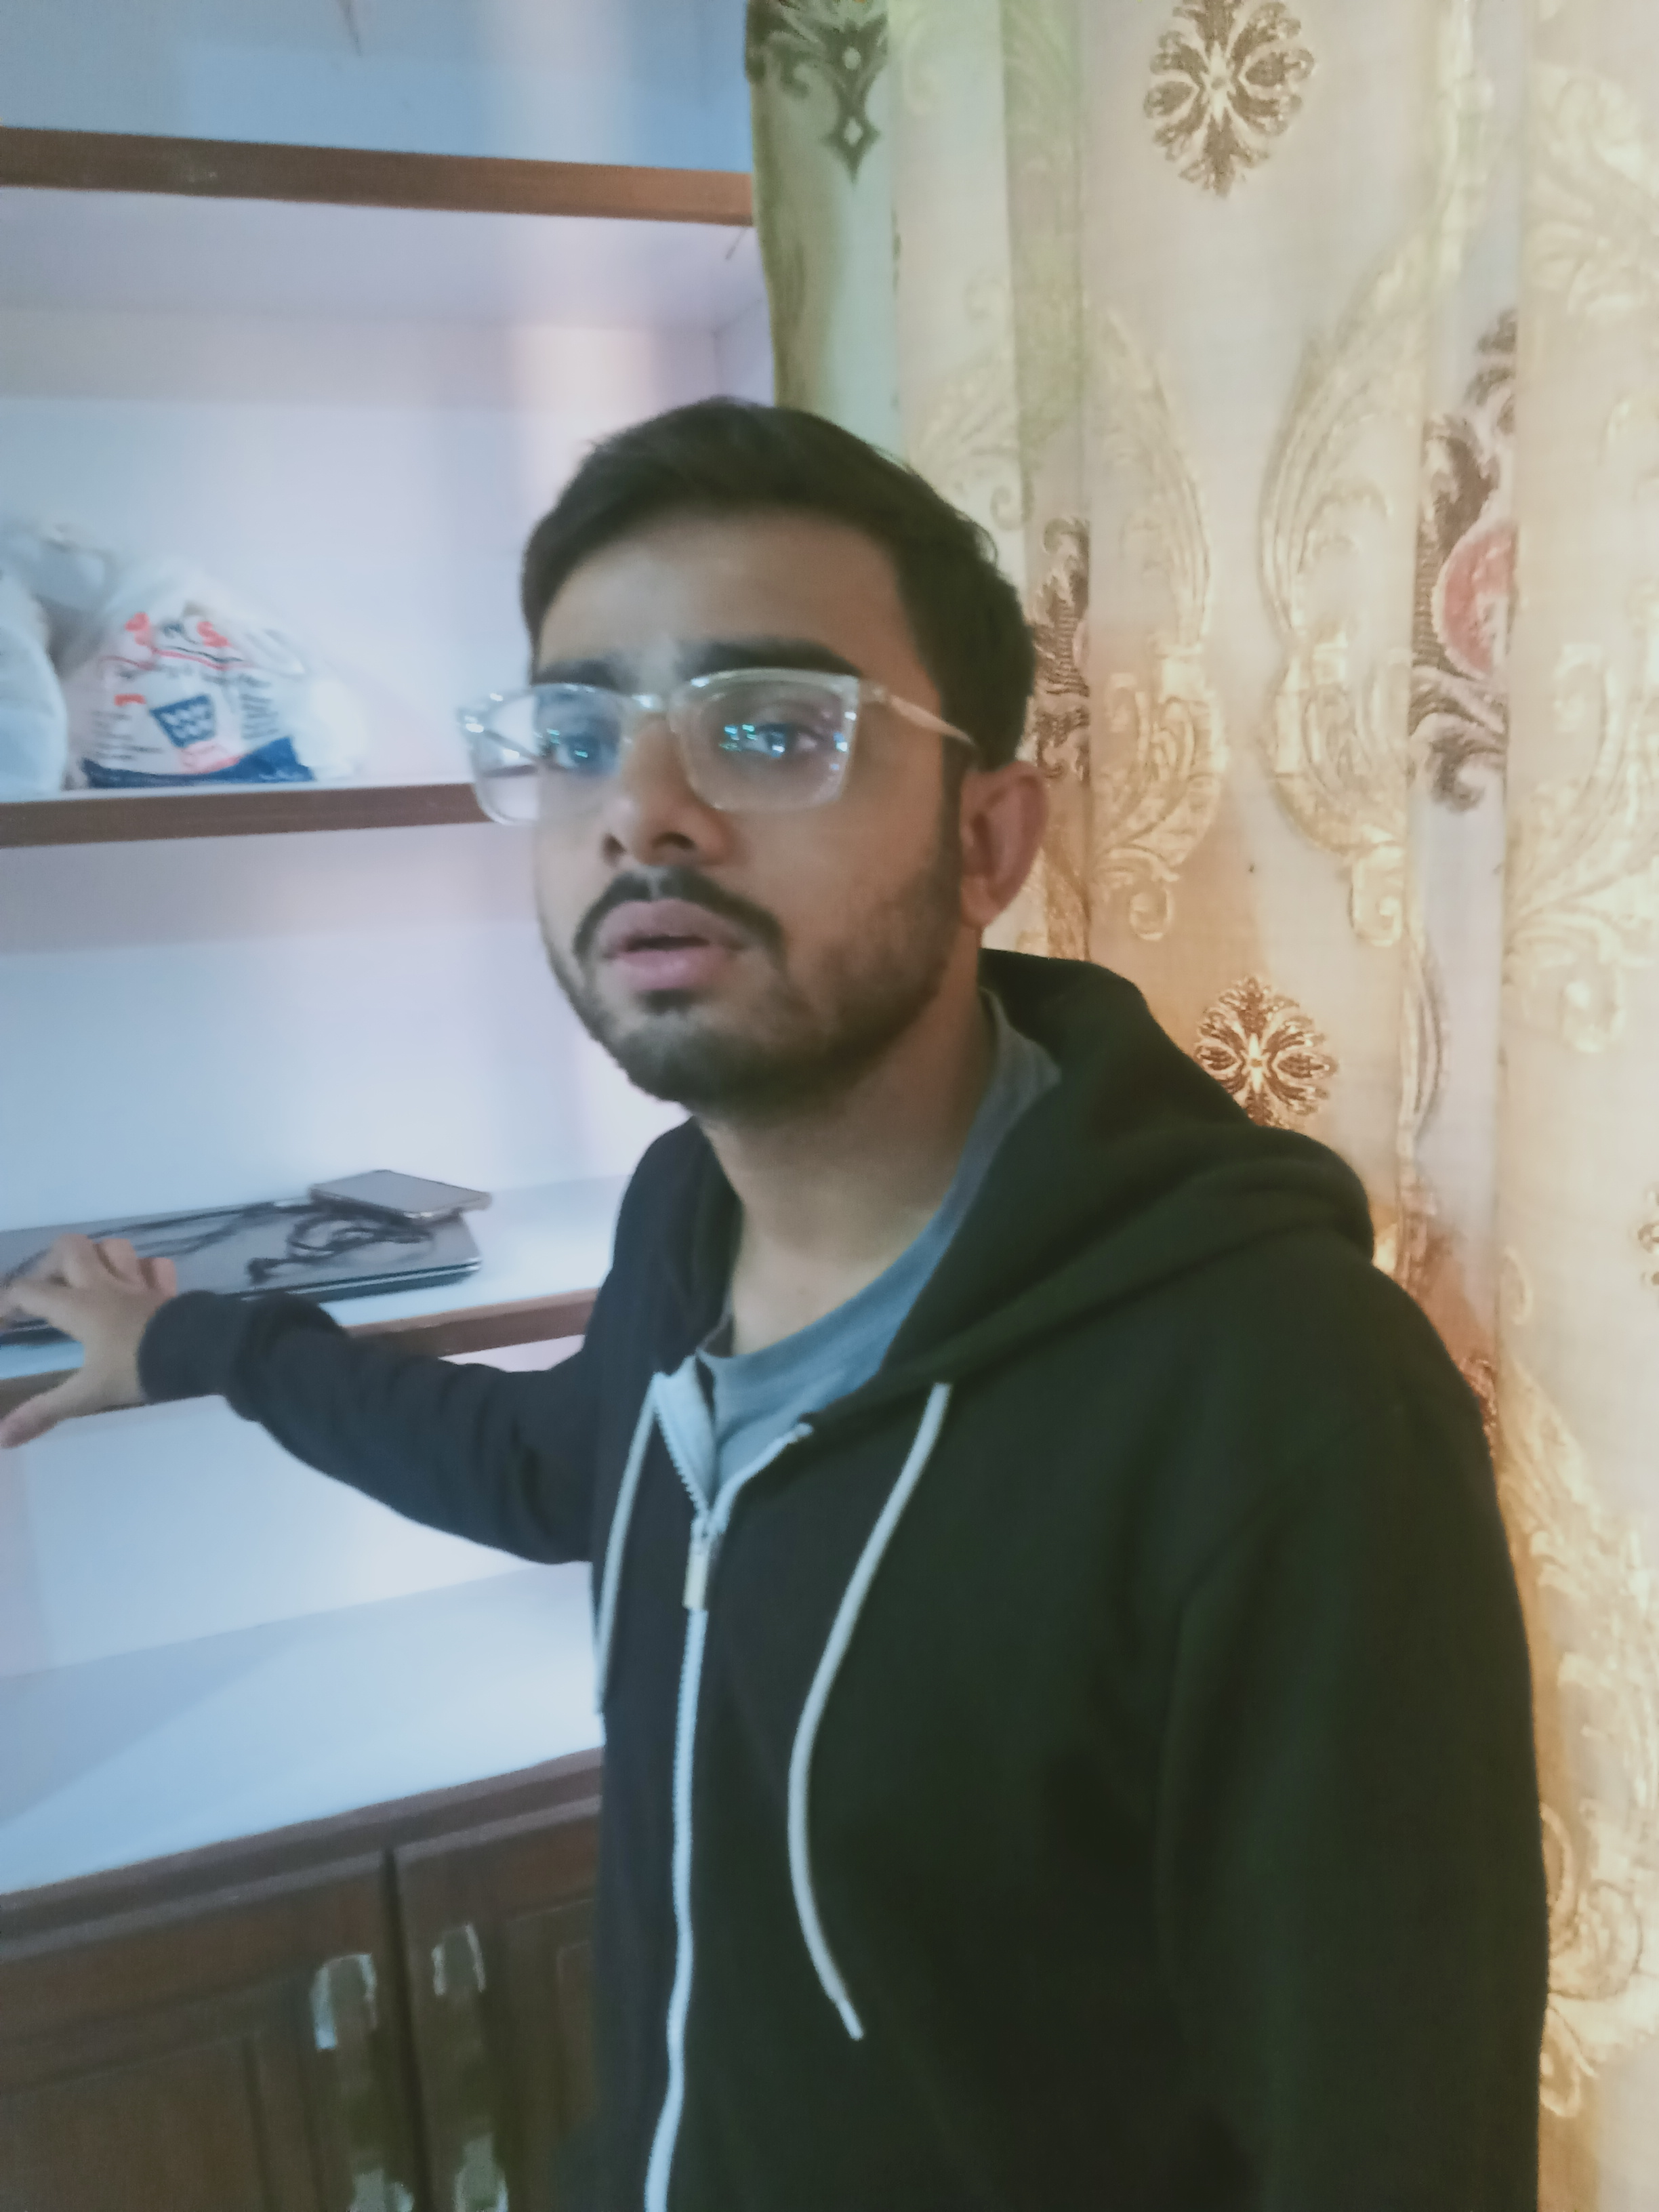NoMask: (535, 615, 928, 1103)
